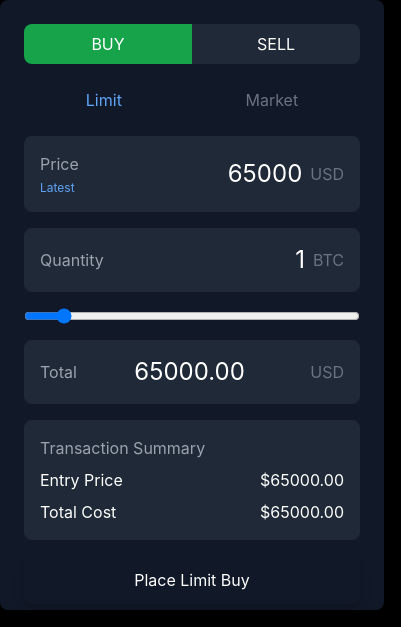
Test: OrderSection component › displays validation error for invalid order
Clear the number field labelled "Price": [191, 174] box [79,158,302,190]
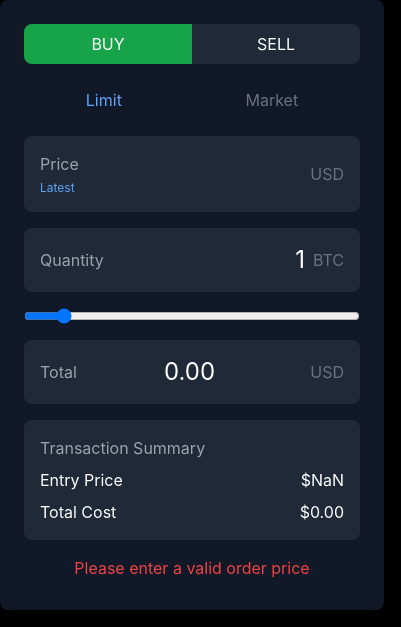
Clear the number field labelled "Quantity": [204, 260] box [104,244,305,276]
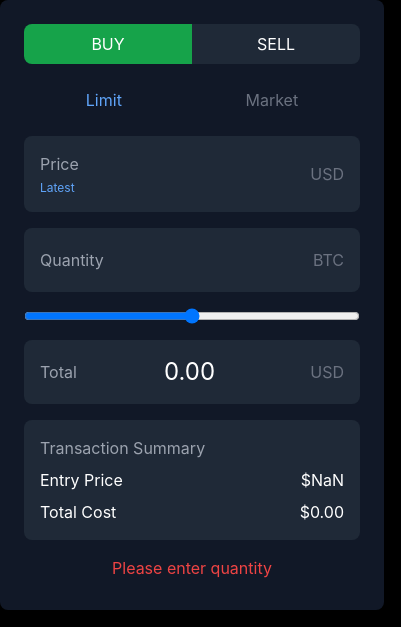
Check: the text "Please enter quantity" is shown, box [112,558,272,578]
